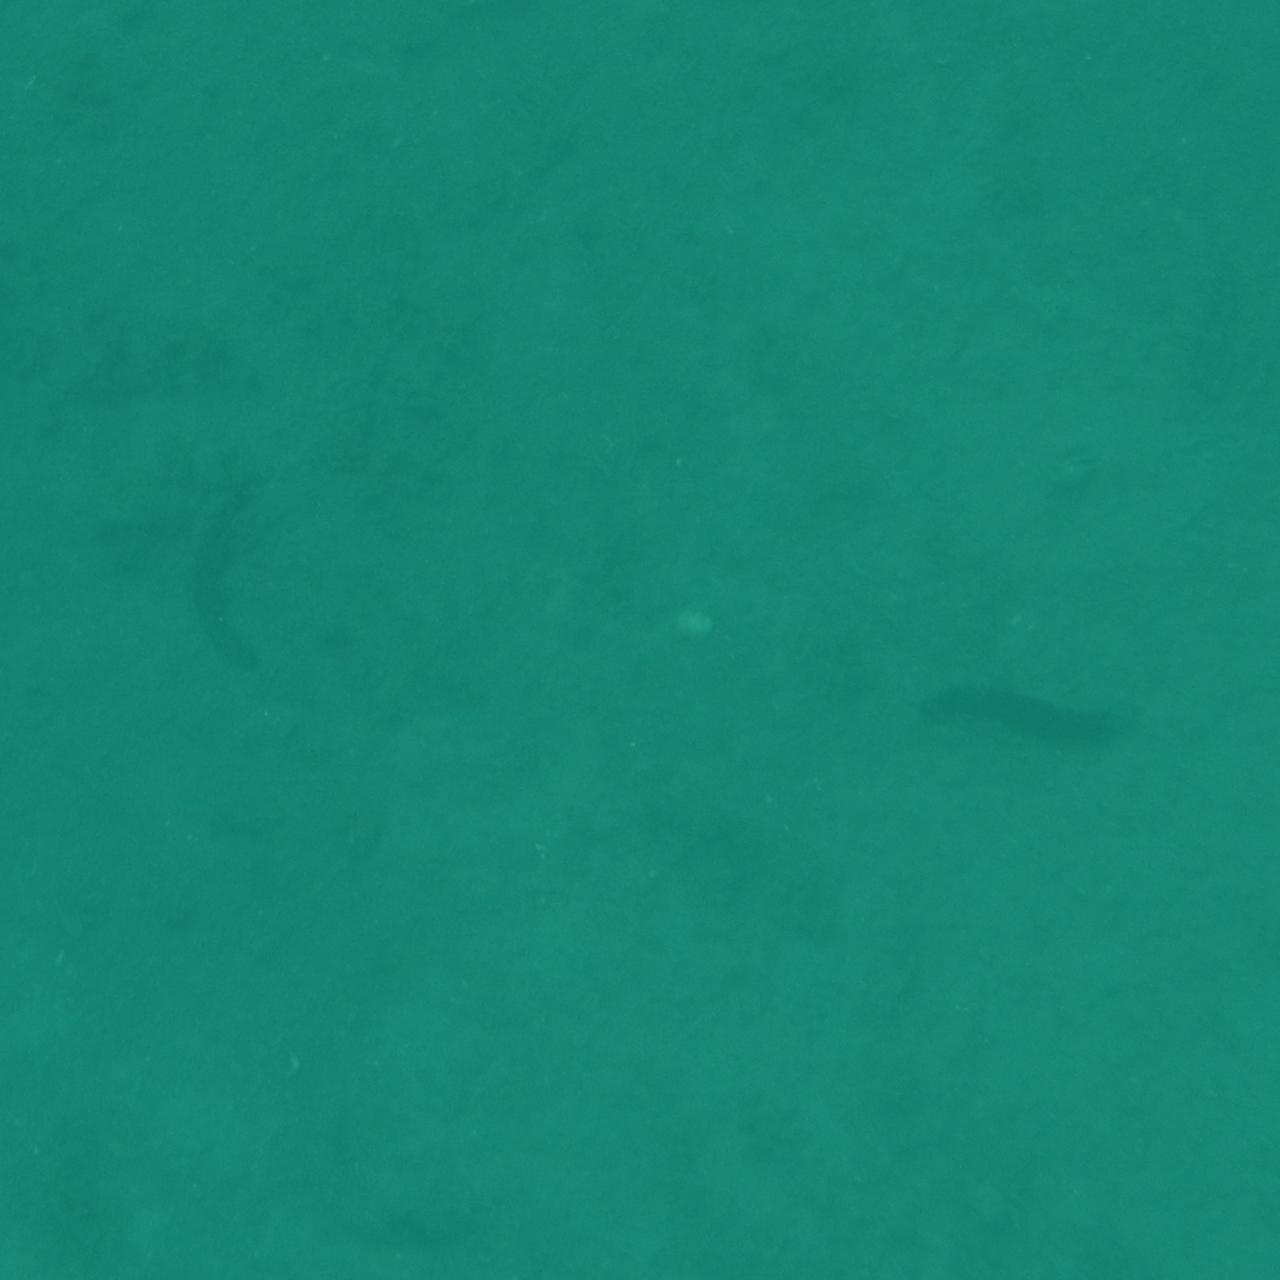Holothuria tubulosa: (898, 658, 1172, 776), (188, 435, 305, 692)
